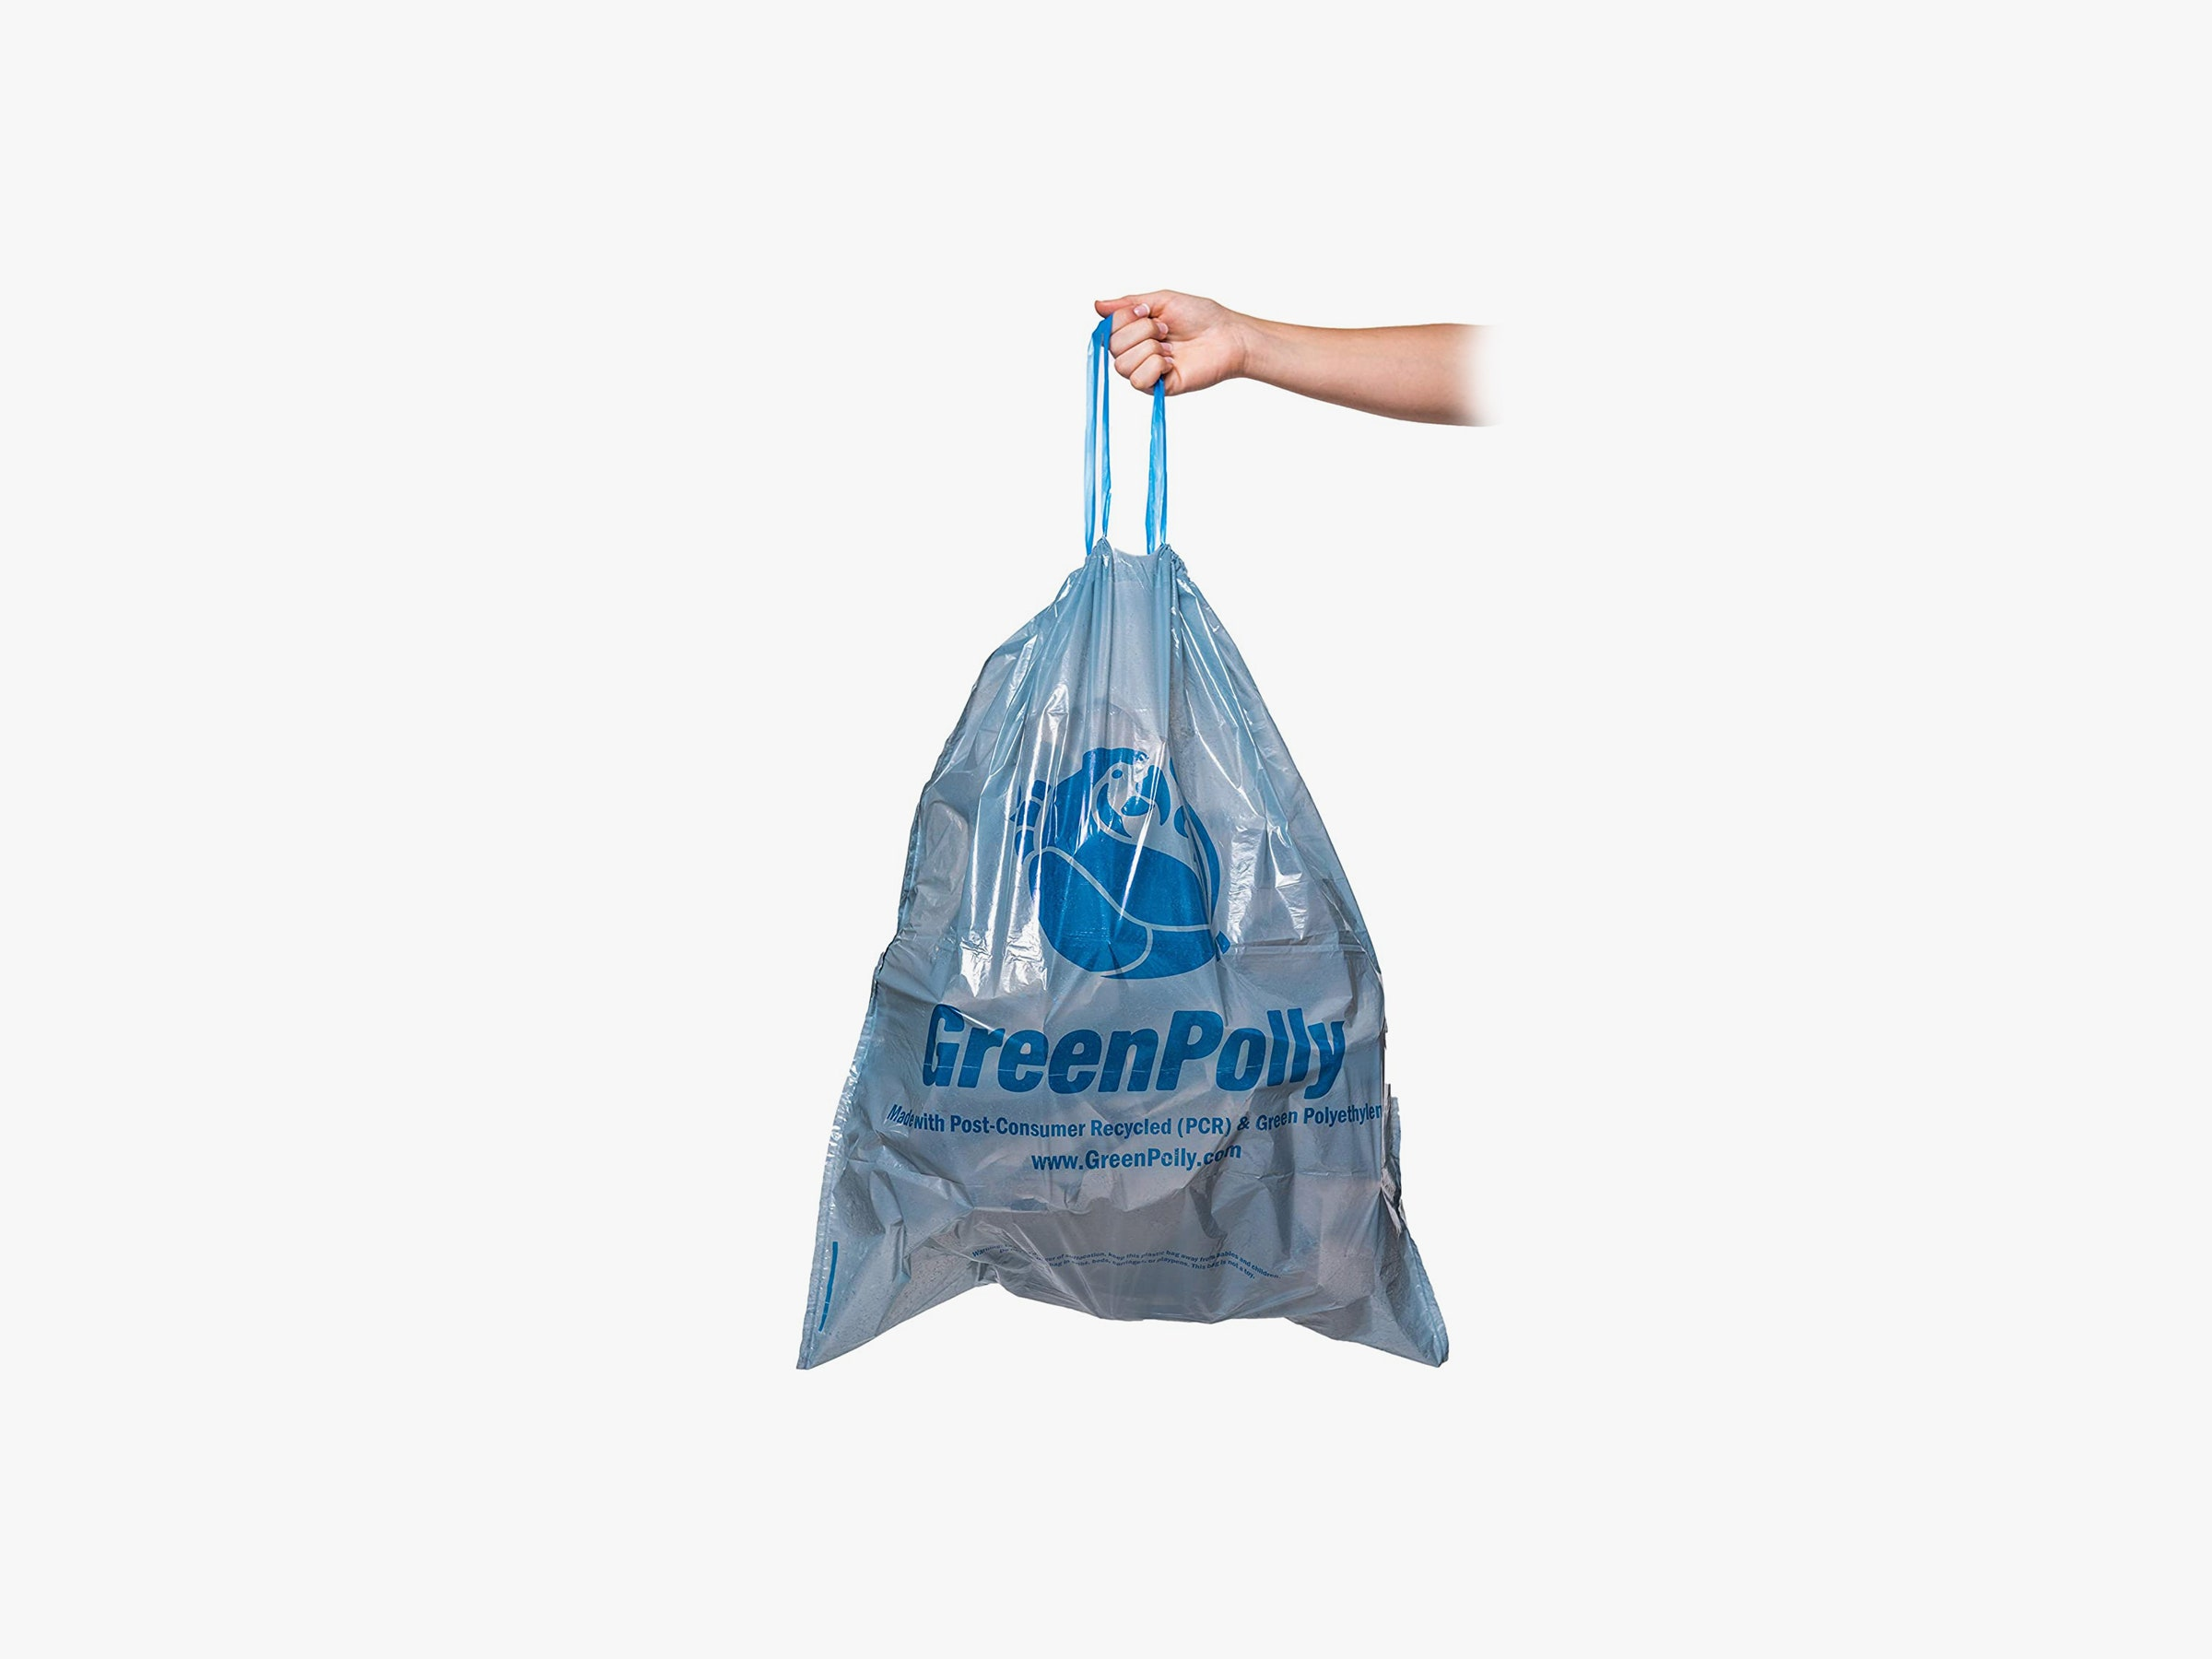plastic_bag: (786, 298, 1470, 1392)
